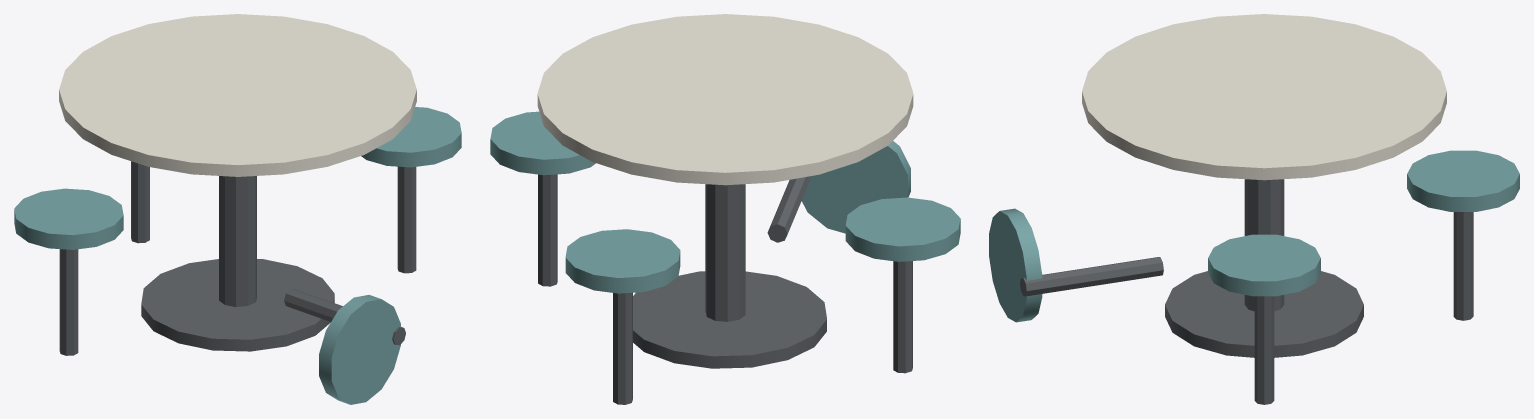
The model's file is round_table.glb.
The picture shows the model from 3 angles, left to right: view 1: azimuth 30°, elevation 25°; view 2: azimuth 150°, elevation 25°; view 3: azimuth 270°, elevation 25°; orthographic projection. The views are drawn at different scales.
Parts seen in each view (by area): view 1: round_table; view 2: round_table; view 3: round_table.
Part boxes in pixels (bbox=[...]): round_table: bbox=[14, 14, 461, 404]; round_table: bbox=[490, 14, 960, 404]; round_table: bbox=[989, 14, 1519, 404].
Bounding box in the file's own units: 1.53 × 0.75 × 1.6.
